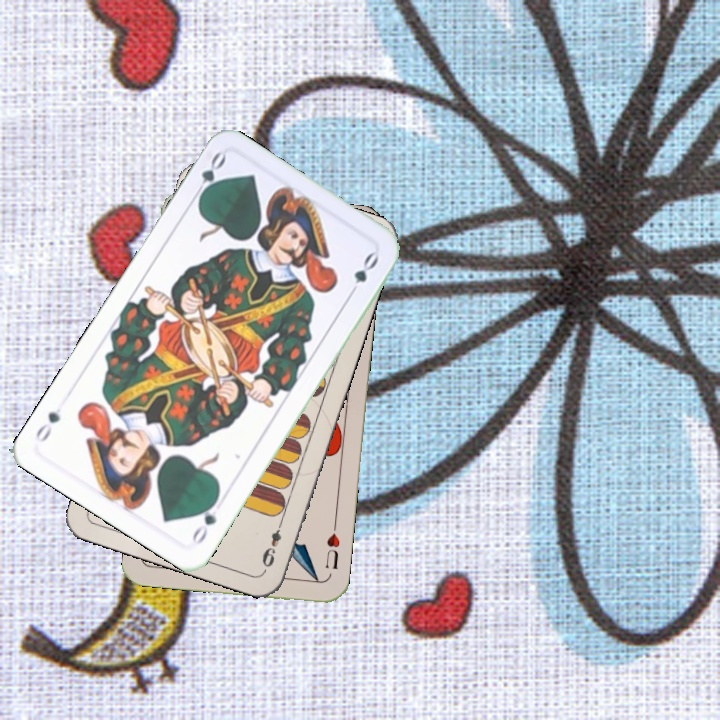E9: (258, 515, 286, 573)
GO: (188, 148, 229, 205), (188, 492, 221, 548)
HU: (321, 529, 343, 572)
